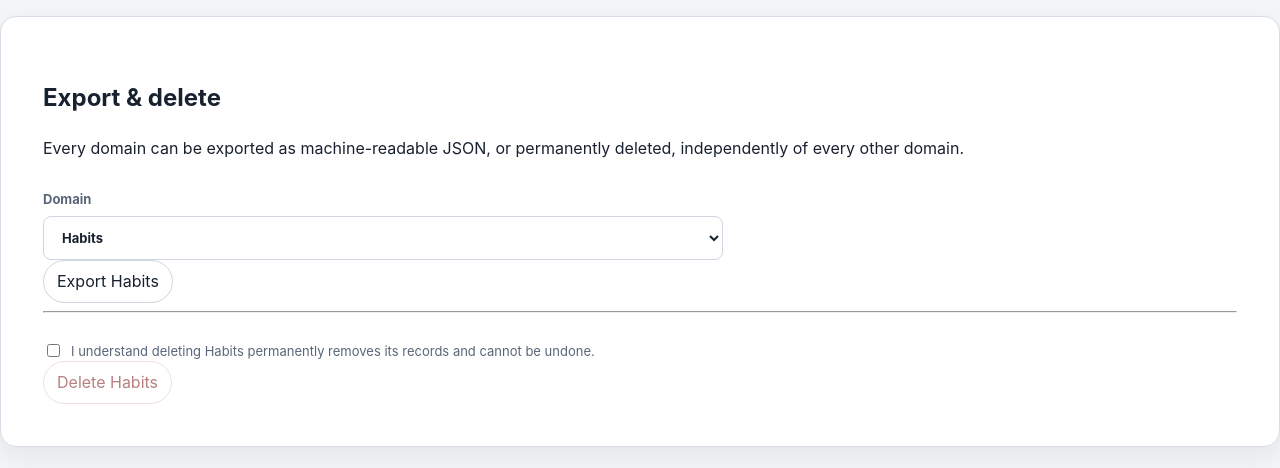
Scenario: ExportDeletePanel › disables Delete until the confirmation checkbox is checked
Expected: the button "Delete Habits" is disabled, [43,361,172,404]
What coordinates should you click on to do the following:
click the checkbox
I would click on:
 (54, 351)
Its box is [47,344,60,357].
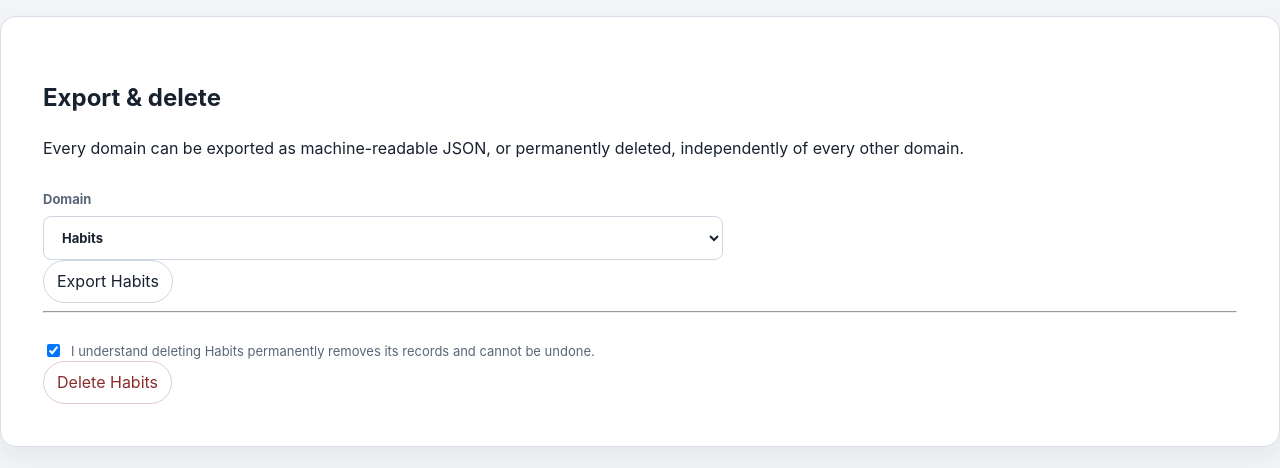
Now the button "Delete Habits" is enabled, box [43,361,172,404]
